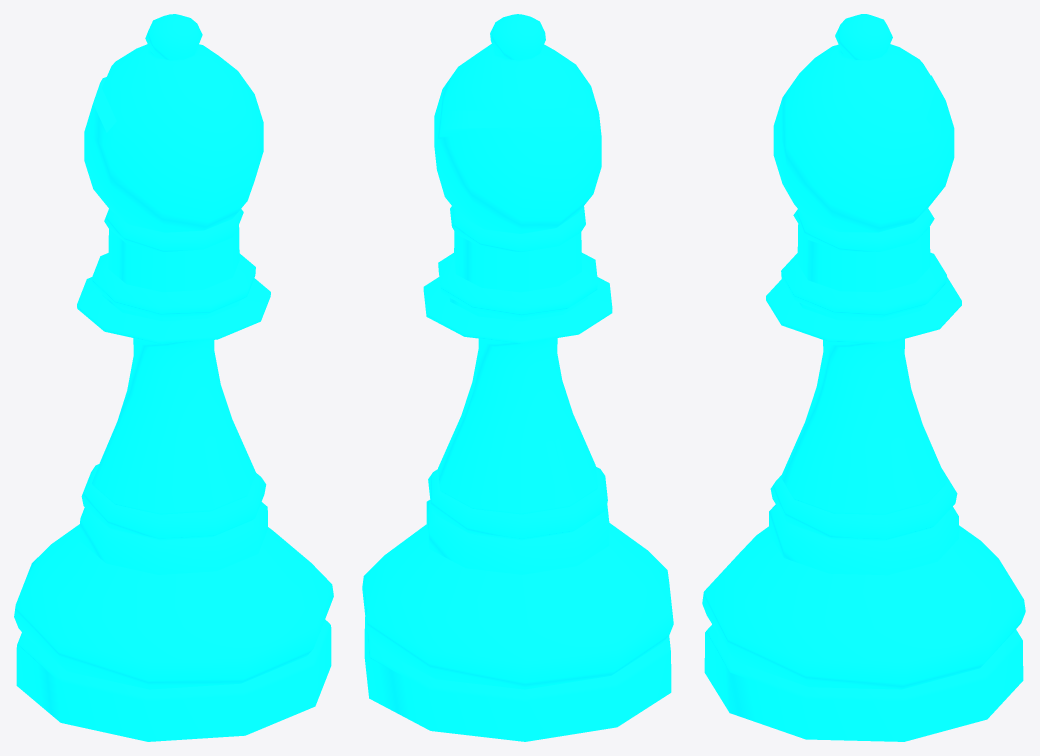
Rendered from item-2-12.glb.
3 views of the same model, side by side, from view 1: azimuth 30°, elevation 25°; view 2: azimuth 150°, elevation 25°; view 3: azimuth 270°, elevation 25° (orthographic).
Parts seen in each view (by area): view 1: BlackBishop; view 2: BlackBishop; view 3: BlackBishop.
Part boxes in pixels (x1=…): BlackBishop: x1=14, y1=14, x2=333, y2=741; BlackBishop: x1=362, y1=14, x2=673, y2=741; BlackBishop: x1=702, y1=14, x2=1025, y2=741.
Size of the model in its own units: 0.0928 by 0.2155 by 0.0958.
